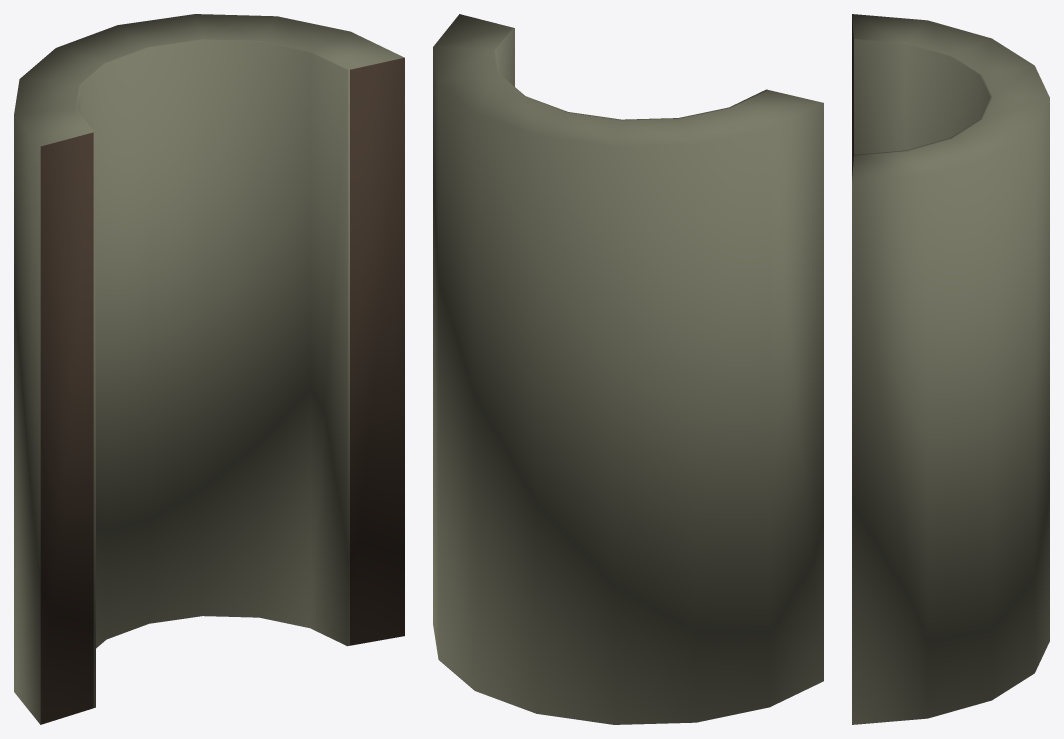
The model's file is well.fbx.
The picture shows the model from 3 angles, left to right: view 1: azimuth 30°, elevation 25°; view 2: azimuth 150°, elevation 25°; view 3: azimuth 270°, elevation 25°; orthographic projection. The views are drawn at different scales.
Parts seen in each view (by area): view 1: Well; view 2: Well; view 3: Well.
Boxes of the visible parts, box(x1,y1,x2,y2) form: Well: box(14, 14, 404, 724); Well: box(433, 14, 823, 724); Well: box(852, 14, 1049, 724).
Bounding box in the file's own units: 752 × 1141 × 376.
